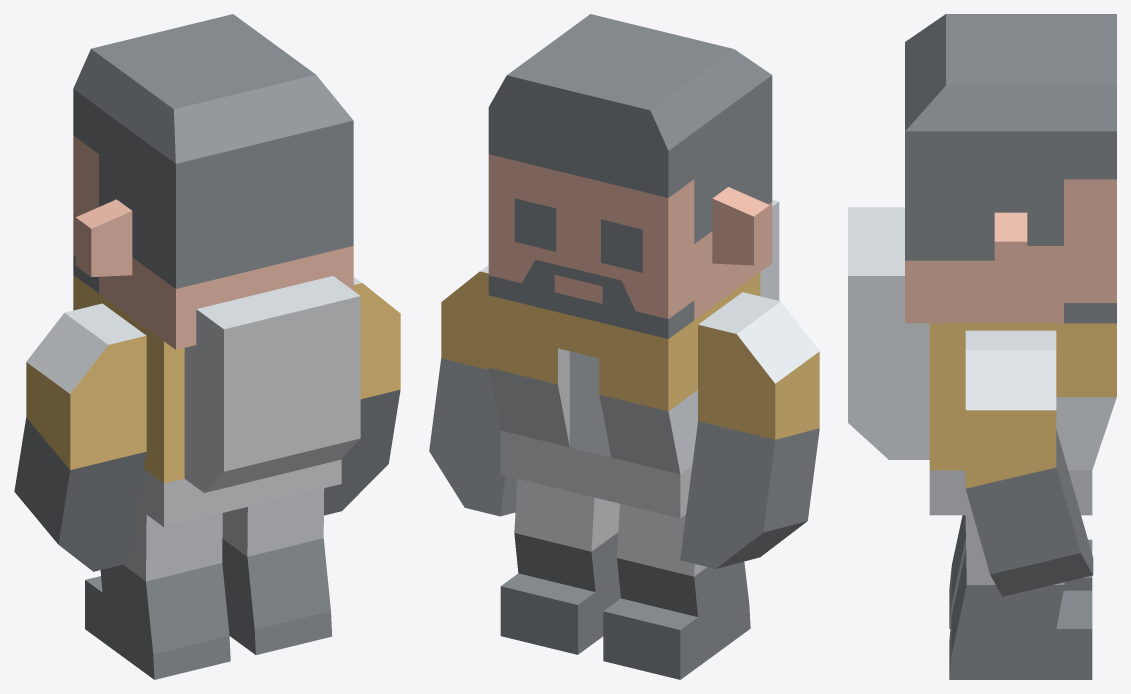
File: astronautB.glb
3 views of the same model, side by side, from view 1: azimuth 30°, elevation 25°; view 2: azimuth 150°, elevation 25°; view 3: azimuth 270°, elevation 25° (orthographic). The views are drawn at different scales.
Parts seen in each view (by area): view 1: armLeft; view 2: armLeft; view 3: armLeft.
Part boxes in pixels (box(x1,y1,x2,y2)): armLeft: box(14, 14, 400, 679); armLeft: box(429, 14, 819, 679); armLeft: box(848, 14, 1116, 679).
Bounding box in the file's own units: 0.4832 × 0.7932 × 0.33.
Materials: 1 (1 with a texture image).
